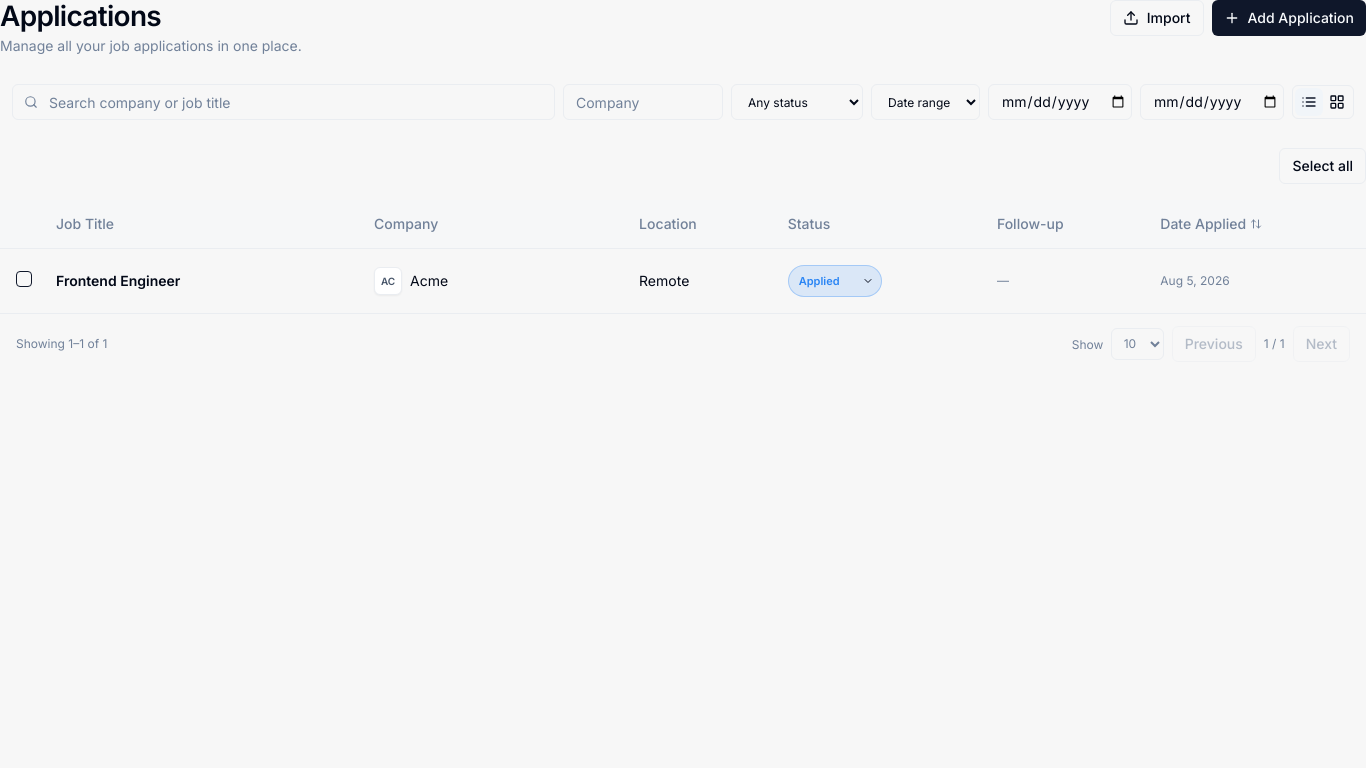
Test case: ApplicationsList › does not expose an executable job link in the application drawer
The image size is (1366, 768).
Click the text "Frontend Engineer" at point(118, 280), box [40,248,358,312]
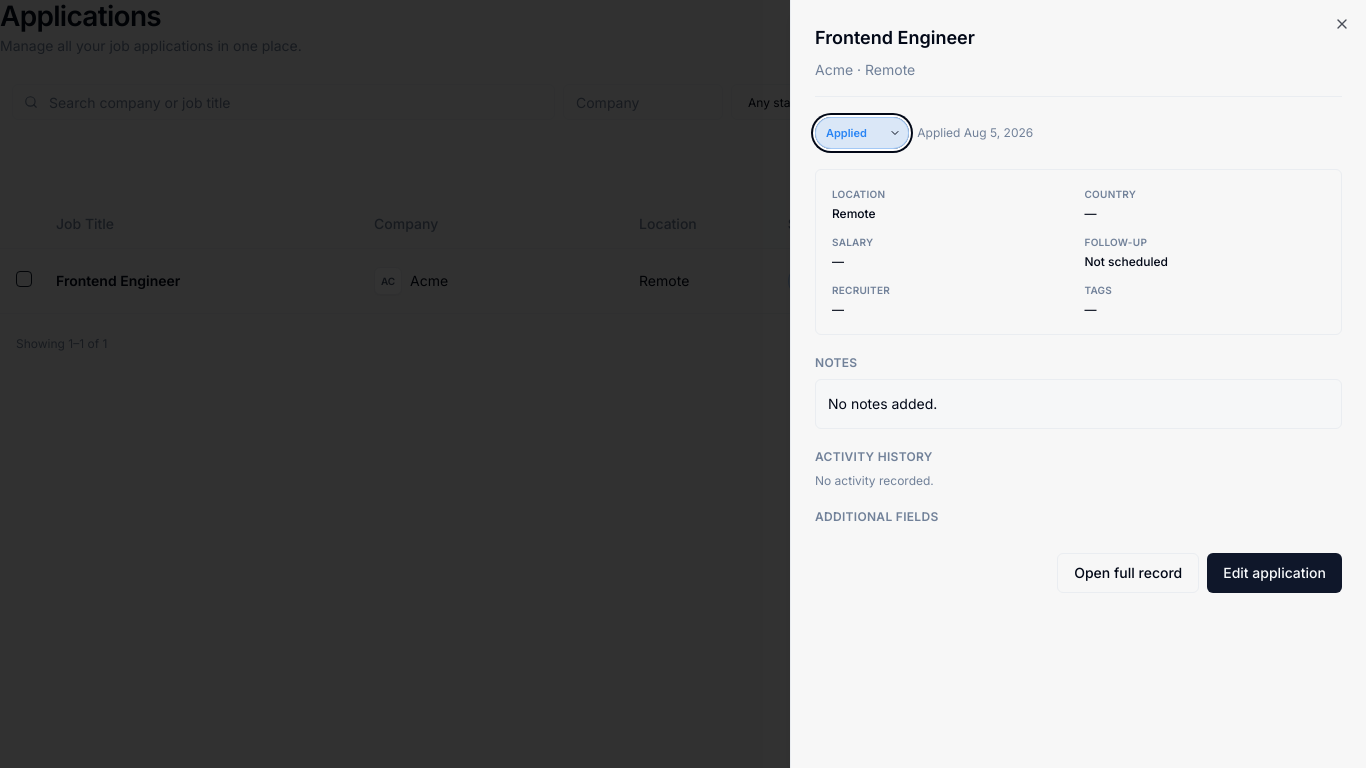
expect the heading "Frontend Engineer" is shown: met, box [815,27,975,48]
